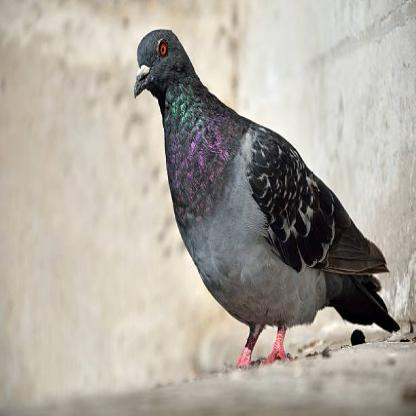Flying Rat: (131, 29, 399, 352)
